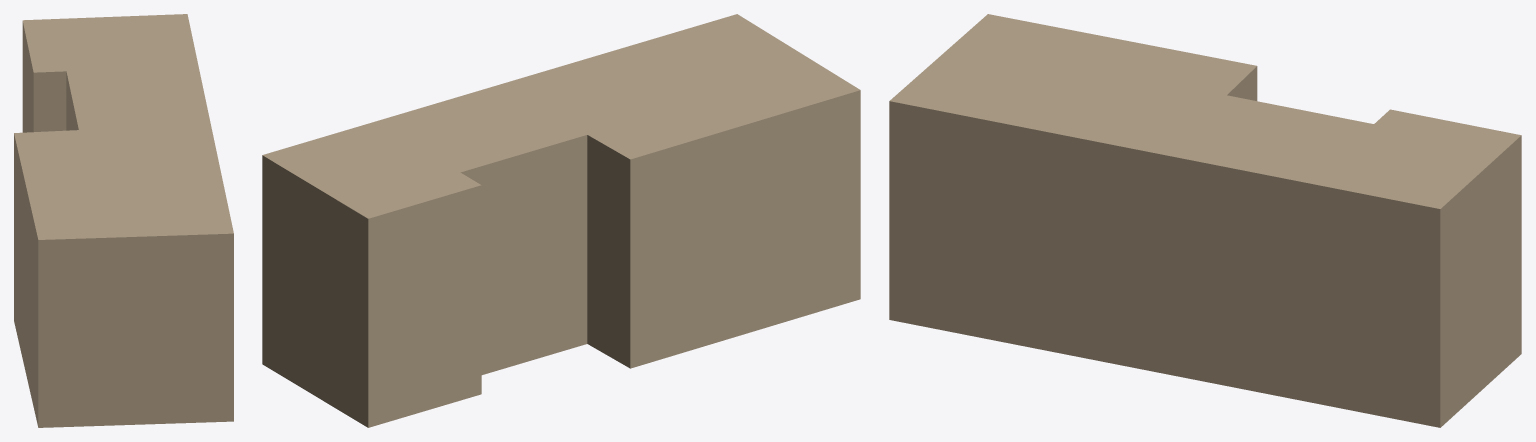
The model's file is bld_99020514.dae.
3 views of the same model, side by side, from view 1: azimuth 30°, elevation 25°; view 2: azimuth 150°, elevation 25°; view 3: azimuth 270°, elevation 25° (orthographic). The views are drawn at different scales.
Parts seen in each view (by area): view 1: bld_99020514; view 2: bld_99020514; view 3: bld_99020514.
Boxes of the visible parts, bbox=[...] form: bld_99020514: bbox=[14, 14, 233, 427]; bld_99020514: bbox=[262, 14, 860, 427]; bld_99020514: bbox=[889, 14, 1521, 427].
Size of the model in its own units: 15.3 by 20.95 by 8.
